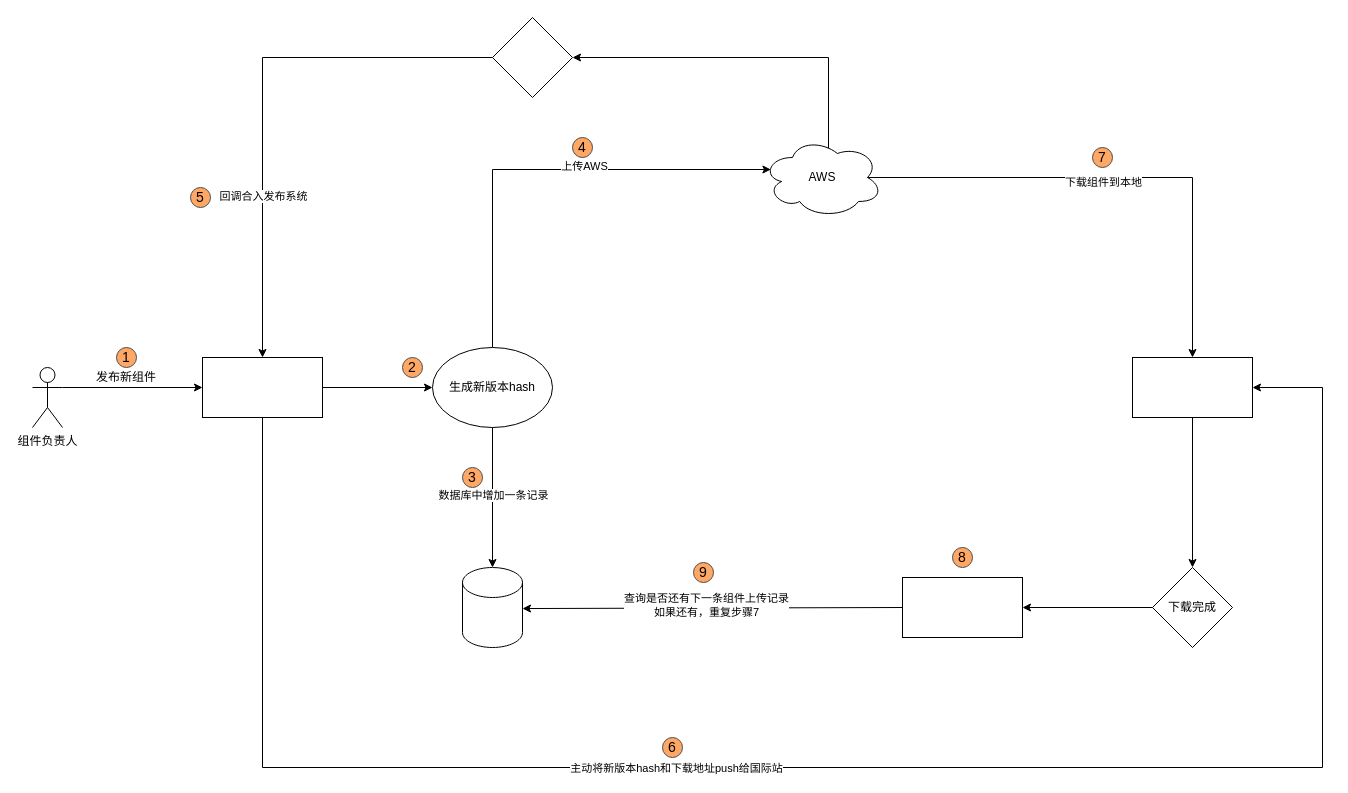
Image size: 1348x793. Some labels were removed from this diagram. Here are the shapes that lost their labels. From the top down, the centre of each, then its label:
At [532,57]: "上传完成".
At [262,387]: "SDK合入系统 （国内）".
At [1192,387]: "SDK下载国际站 （新加坡）".
At [492,607]: "数据库".
At [962,607]: "文件hash校验对比 （可省略）".
